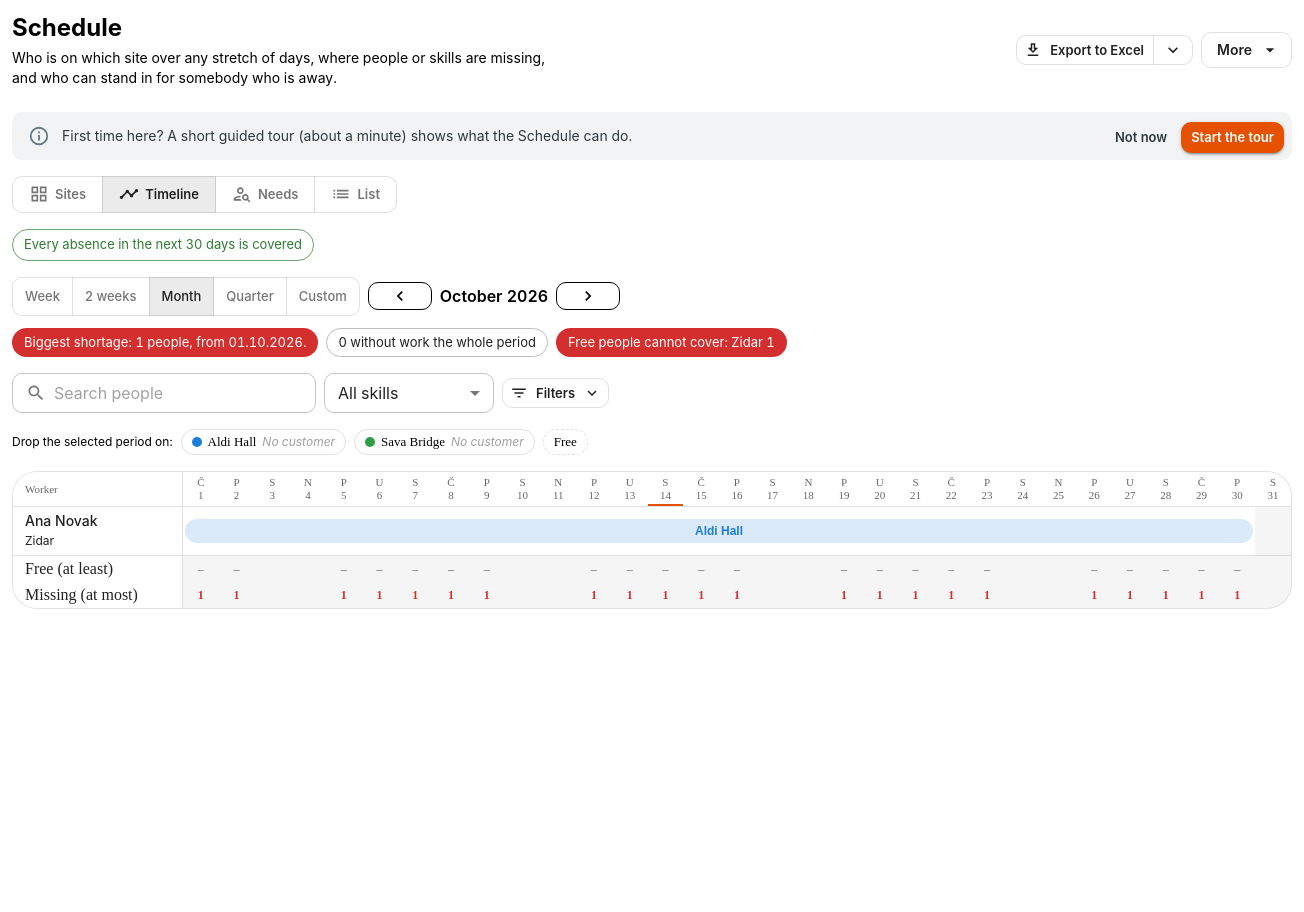
PlanningPage › shows what each project needs against who is there, with the arrow opening the skills
Click the button with aria-label "Needs by project". click: (265, 194)
box: [215,176,316,213]
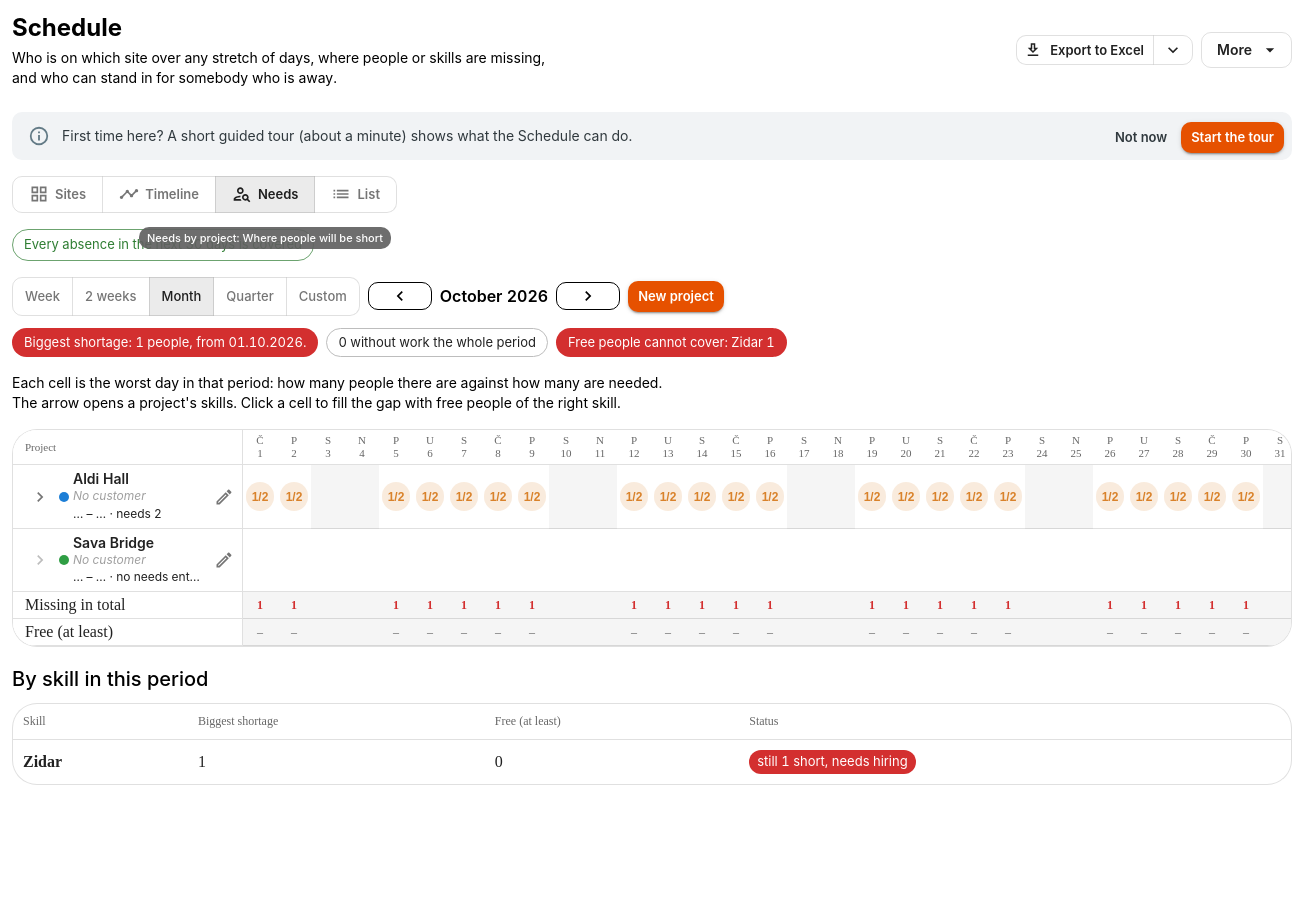
Expected: the text "Aldi Hall" is shown, [73,470,129,488]
Click the button named "Show skills" next to "Aldi Hall". click: (40, 497)
box: [25,482,55,512]
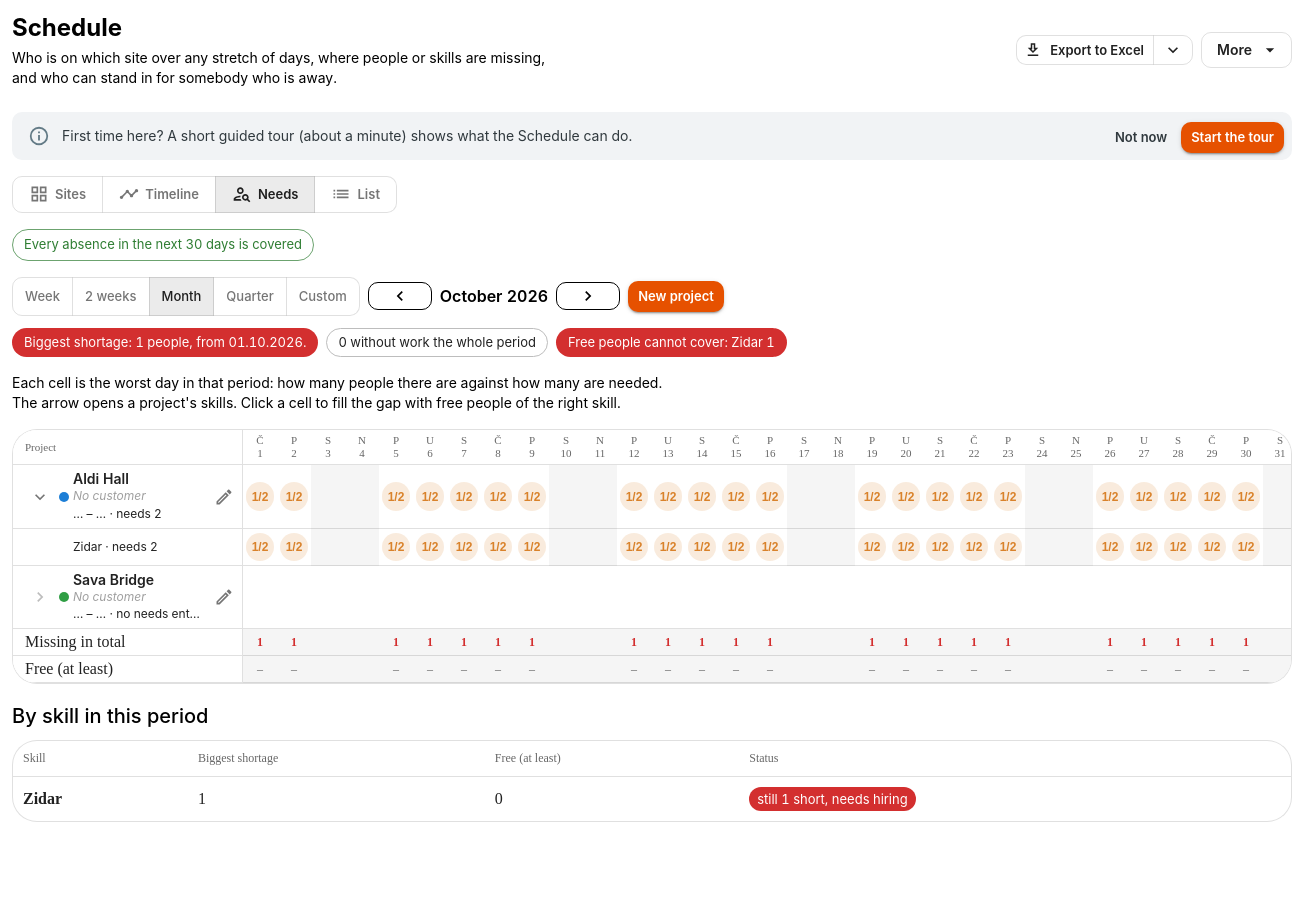
Now the 1st button "1/2" is shown, box [246,482,274,511]
Now the text "Zidar · needs 2" is shown, box [73,539,158,554]
